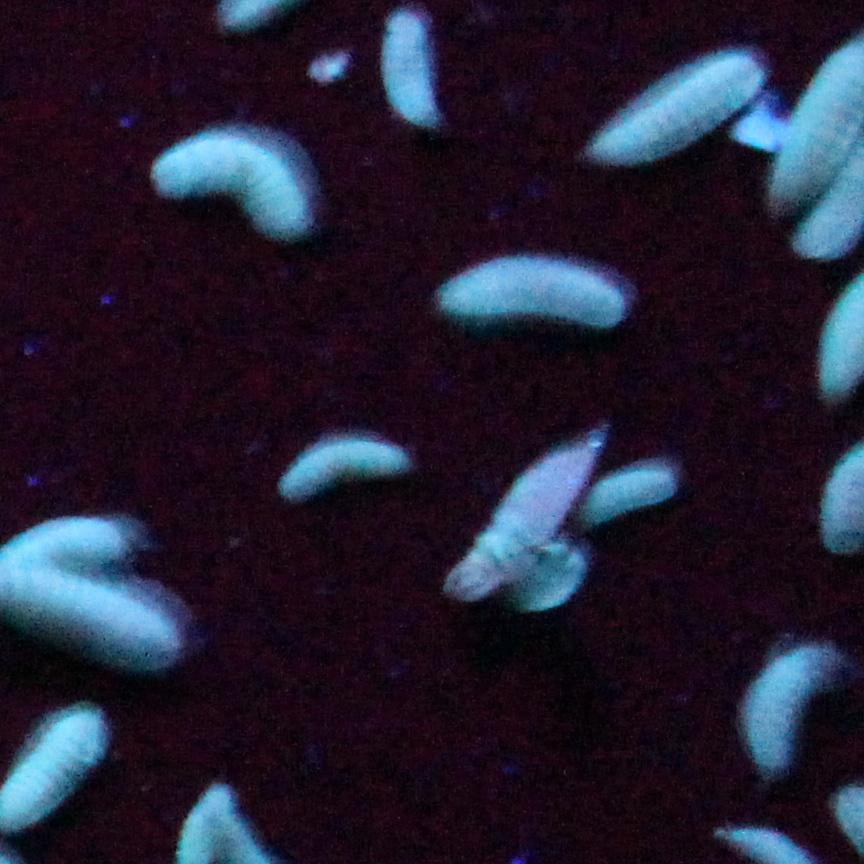larve: (447, 447, 594, 598), (591, 54, 764, 159), (152, 136, 302, 233), (441, 258, 622, 326), (744, 649, 826, 769), (281, 442, 406, 496), (383, 13, 439, 127), (570, 469, 675, 526)
